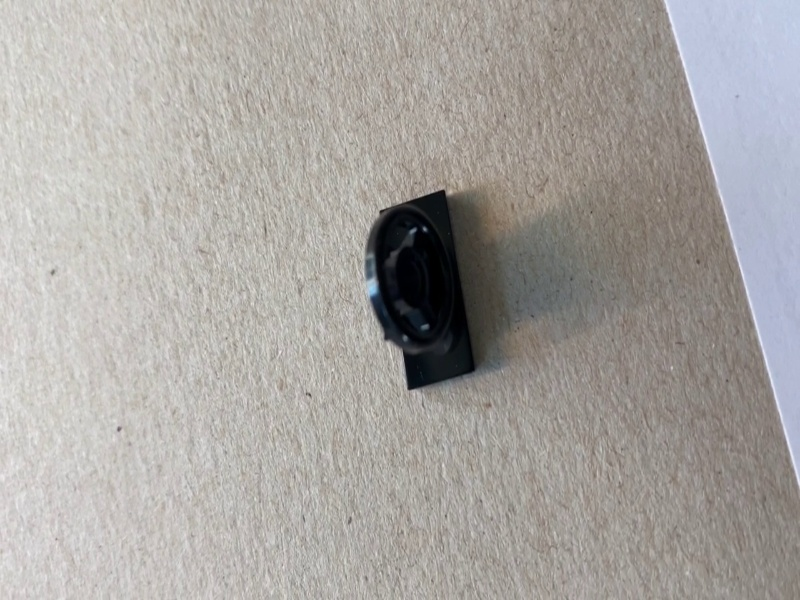steering wheel: (363, 190, 476, 392)
